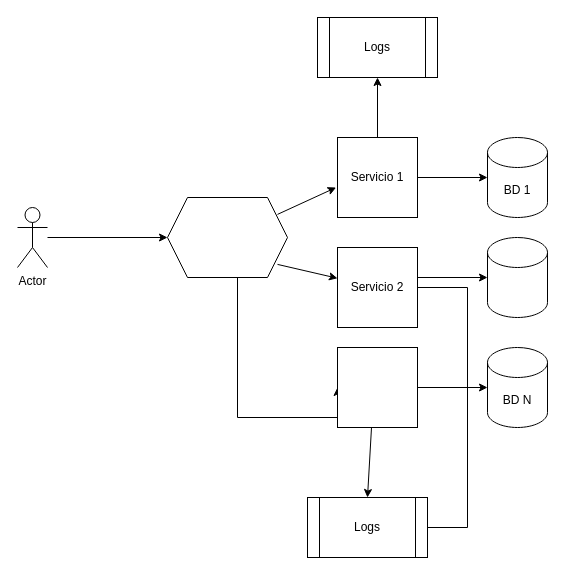
This 565x575 diagram has some shape labels left out. Here are the shapes that lost their labels. From the top down, the box of each, then its label:
(166, 196, 288, 278): Proxy
(486, 236, 548, 318): BD 2
(336, 346, 418, 428): Servicio N
